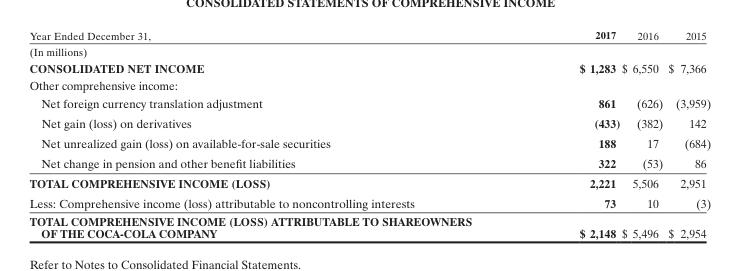table: (28, 28, 710, 240)
table column: (28, 28, 524, 240), (524, 28, 620, 240), (664, 28, 710, 240), (620, 28, 664, 240)
table column header: (28, 28, 710, 43)
table projected row header: (28, 76, 710, 94), (28, 43, 710, 59)
table row: (28, 211, 710, 240), (28, 113, 710, 133), (28, 133, 710, 153), (28, 153, 710, 173), (28, 94, 710, 113), (28, 173, 710, 192), (28, 192, 710, 211), (28, 76, 710, 94), (28, 59, 710, 76), (28, 43, 710, 59), (28, 28, 710, 43)
